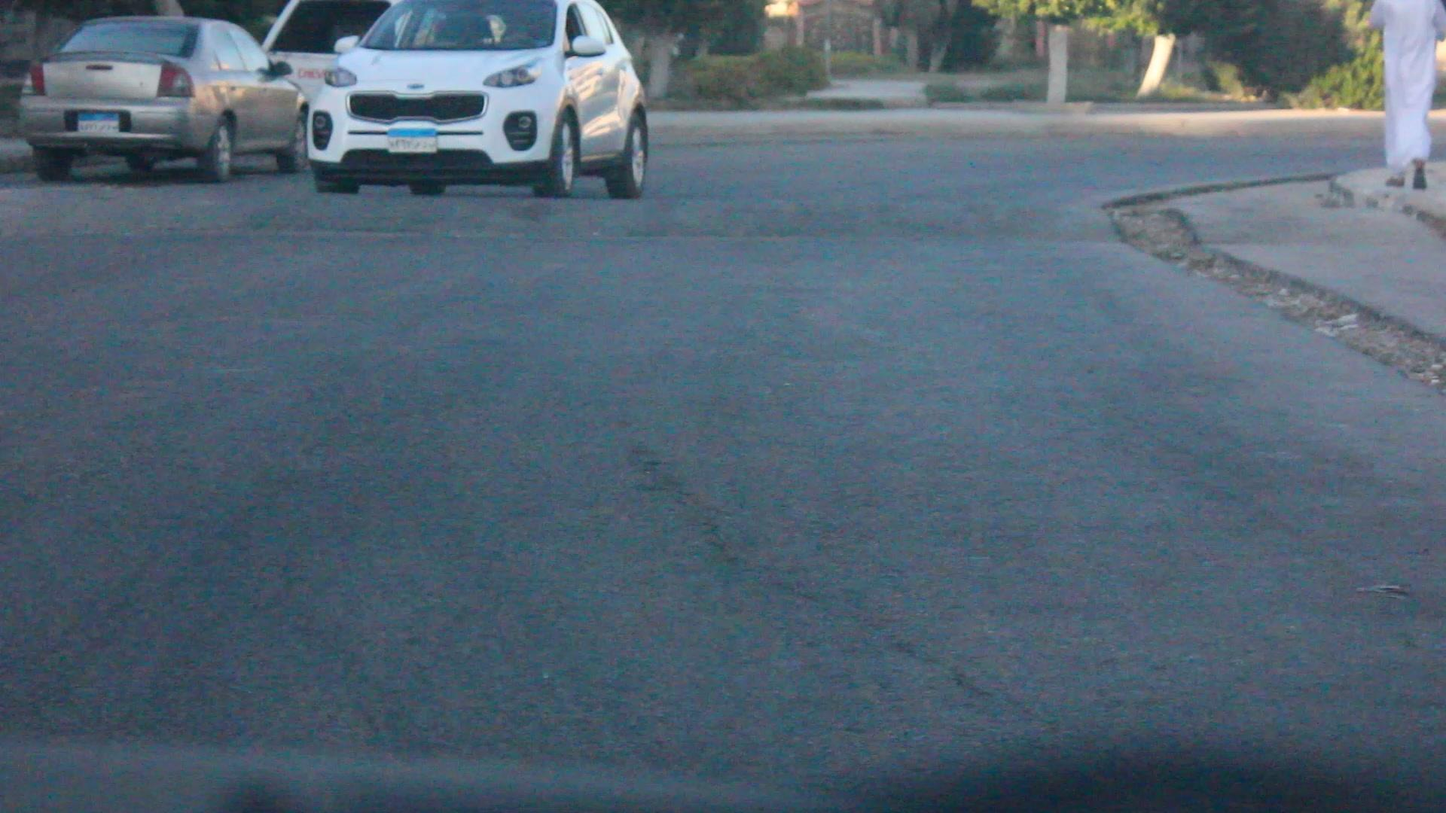Bump: (0, 188, 1122, 255)
